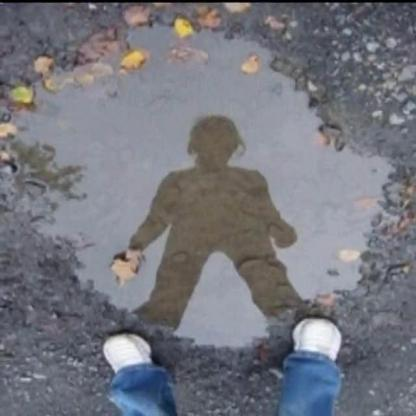other: (68, 197, 369, 356), (26, 20, 294, 89)
